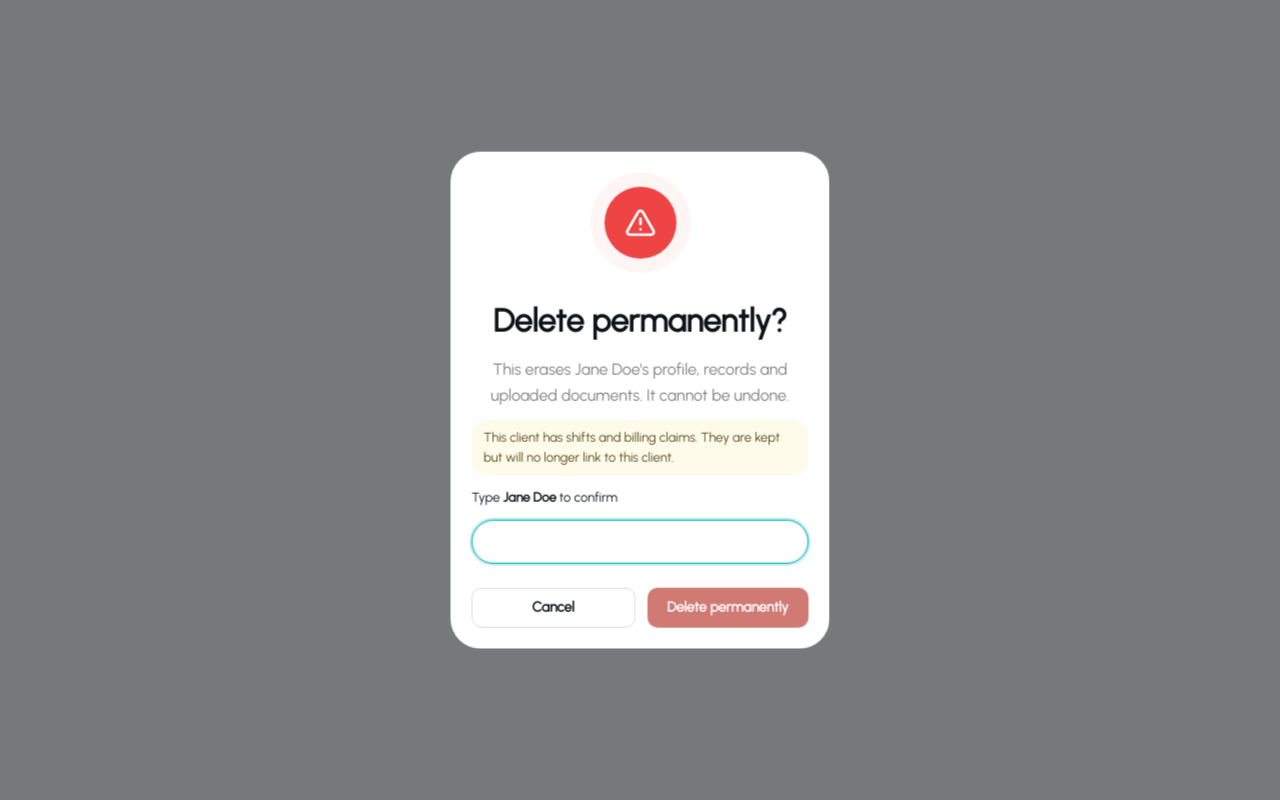
Test case: warns about shifts and claims and deletes only after the name is typed
This screenshot has width=1280, height=800.
Later steps or results of the test are not shown.
Expected: the text "has shifts and billing claims" is shown, [484,430,783,465]
Expected: the button "Delete permanently" is disabled, [647,587,808,627]
Type "jane  doe" into the field labelled "Type Jane Doe to confirm" at [640, 541], box [472,519,808,563]
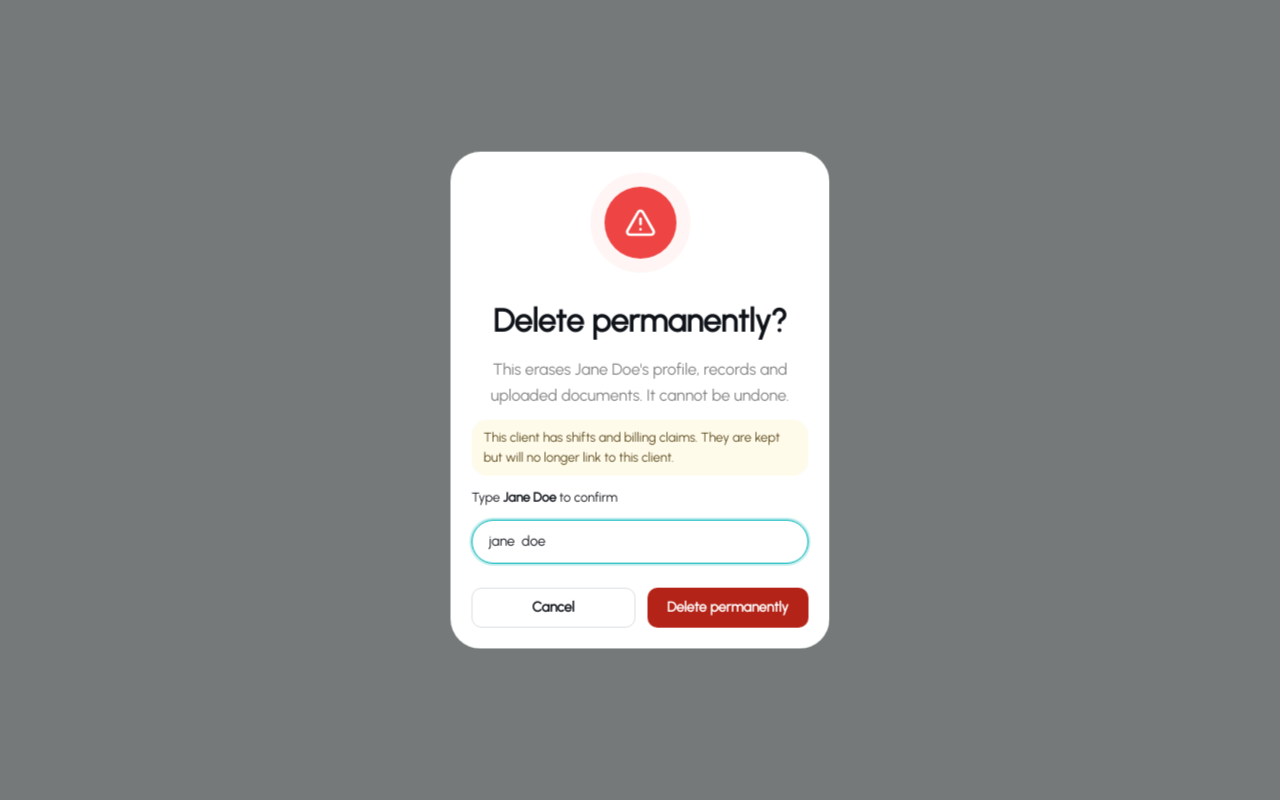
Expected: the button "Delete permanently" is enabled, [647,587,808,627]
